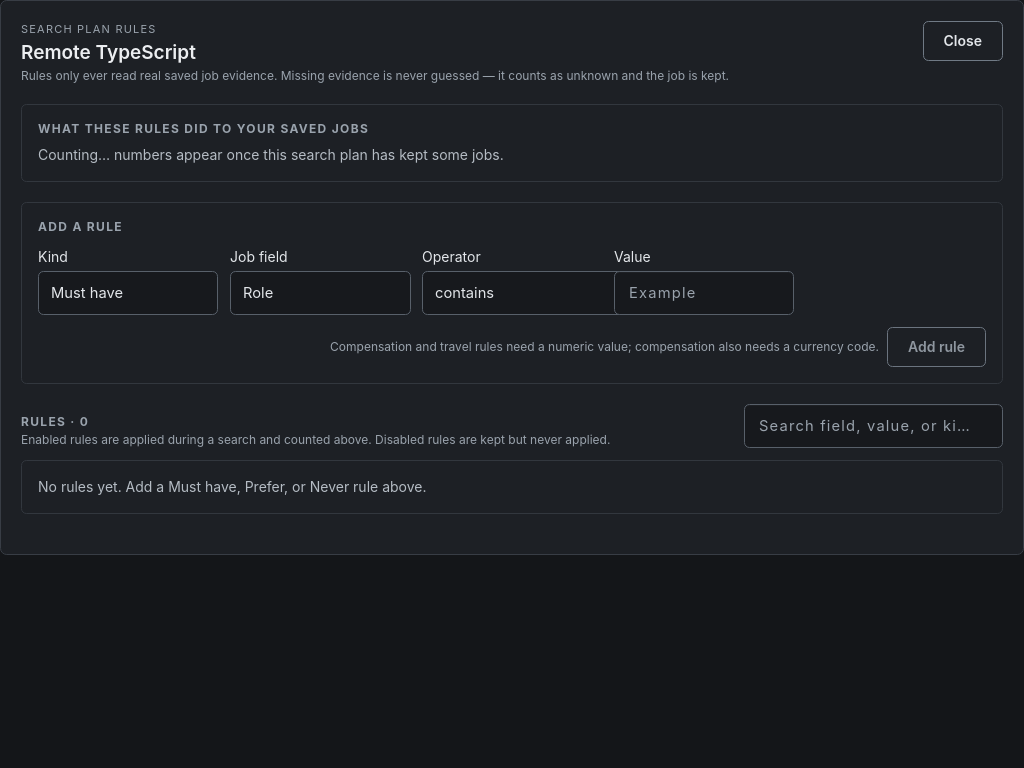
Scenario: CampaignRuleBuilder › shows field-level feedback and disables add for a nonnumeric travel value
This screenshot has width=1024, height=768.
Step 1. Select "Travel" in the dropdown labelled "Job field" → (320, 293), box [230, 271, 411, 315]
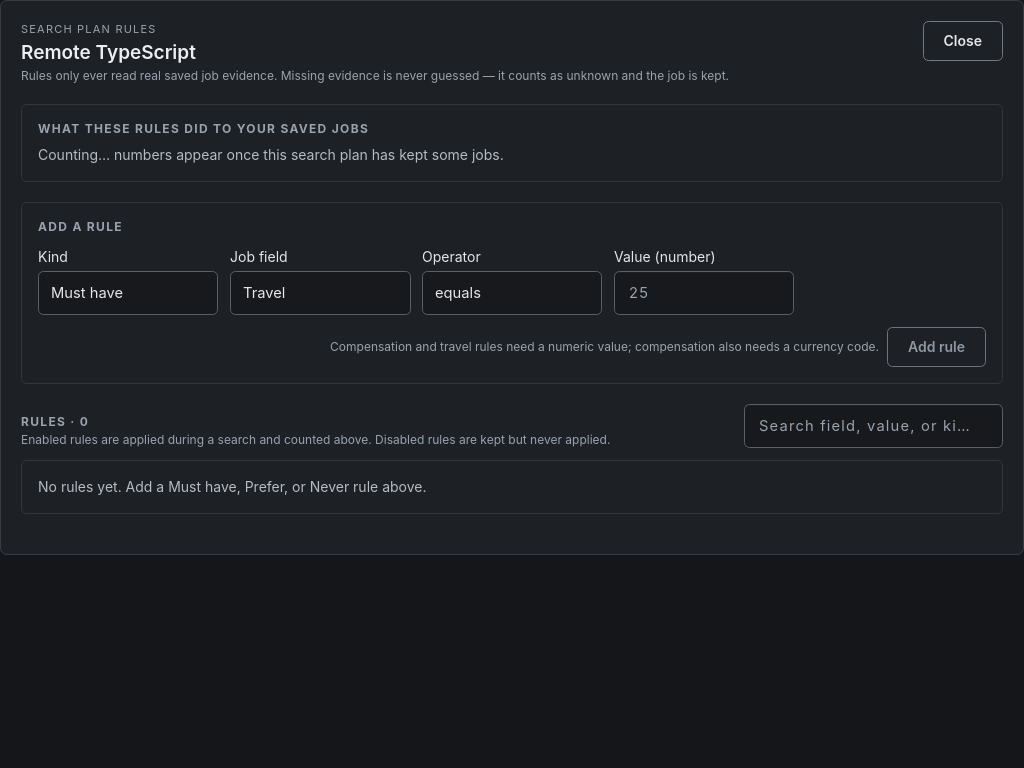
Step 2. Type "not-a-number" into the field labelled "Value (number)" → (704, 293), box [614, 271, 794, 315]
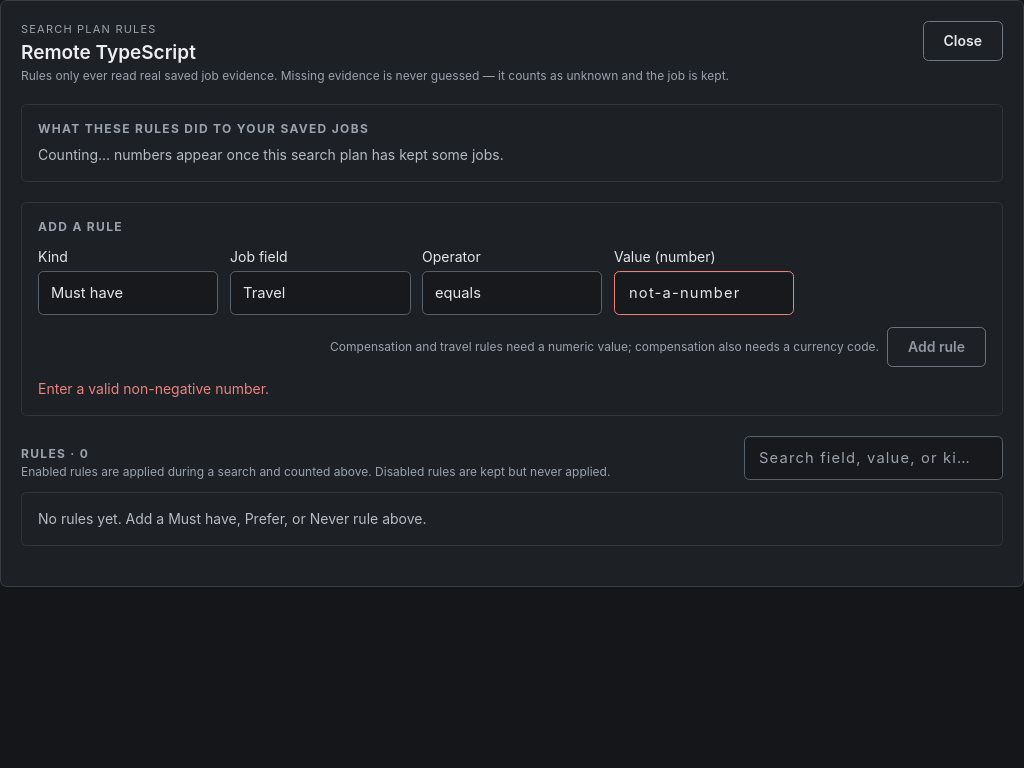
Expected: the button "Add rule" is disabled, [887, 327, 986, 367]
Now the message reads "Enter a valid non-negative number.", box [38, 380, 269, 397]
